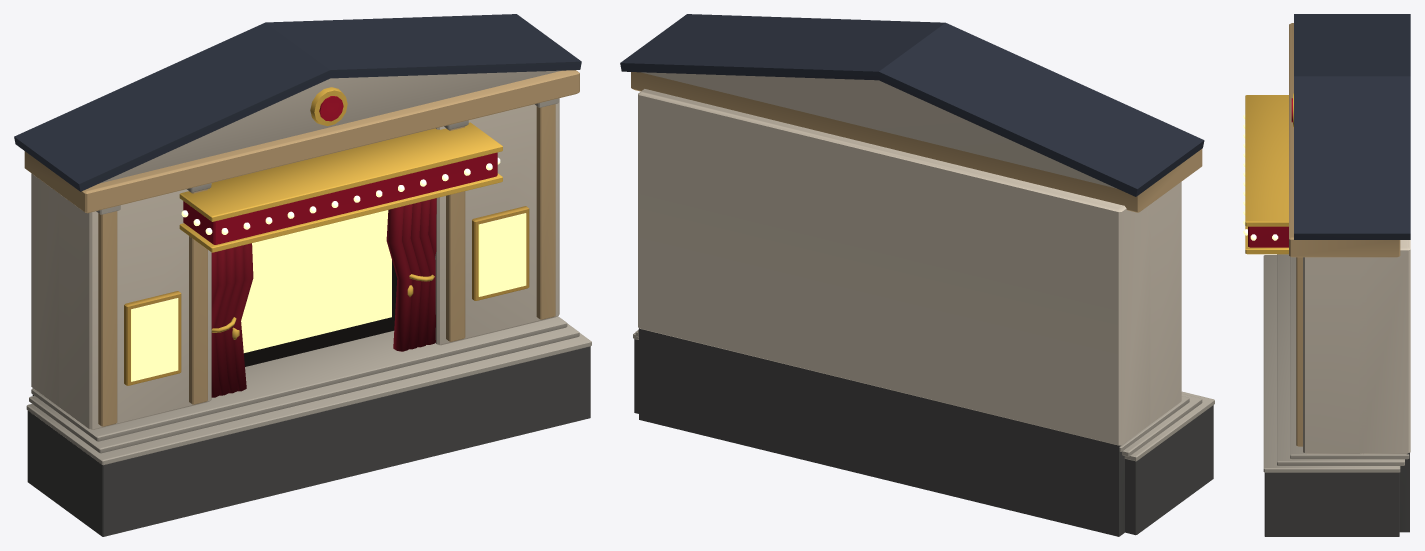
Rendered from lmf_theater_facade.glb.
3 renders of one model, left to right at view 1: azimuth 30°, elevation 25°; view 2: azimuth 150°, elevation 25°; view 3: azimuth 270°, elevation 25°, orthographic. The views are drawn at different scales.
Parts seen in each view (by area): view 1: body; view 2: body; view 3: body.
Boxes of the visible parts, x1,y1,x2,y2 form: body: [14, 14, 591, 536]; body: [620, 14, 1214, 536]; body: [1243, 14, 1410, 536].
Size of the model in its own units: 20.53 by 15.43 by 6.6.
